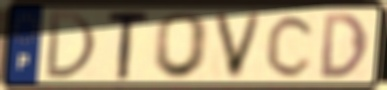C: (264, 12, 319, 80)
D: (42, 9, 99, 82), (319, 11, 371, 81)
O: (151, 10, 213, 81)
T: (105, 8, 153, 83)
V: (211, 10, 266, 82)
